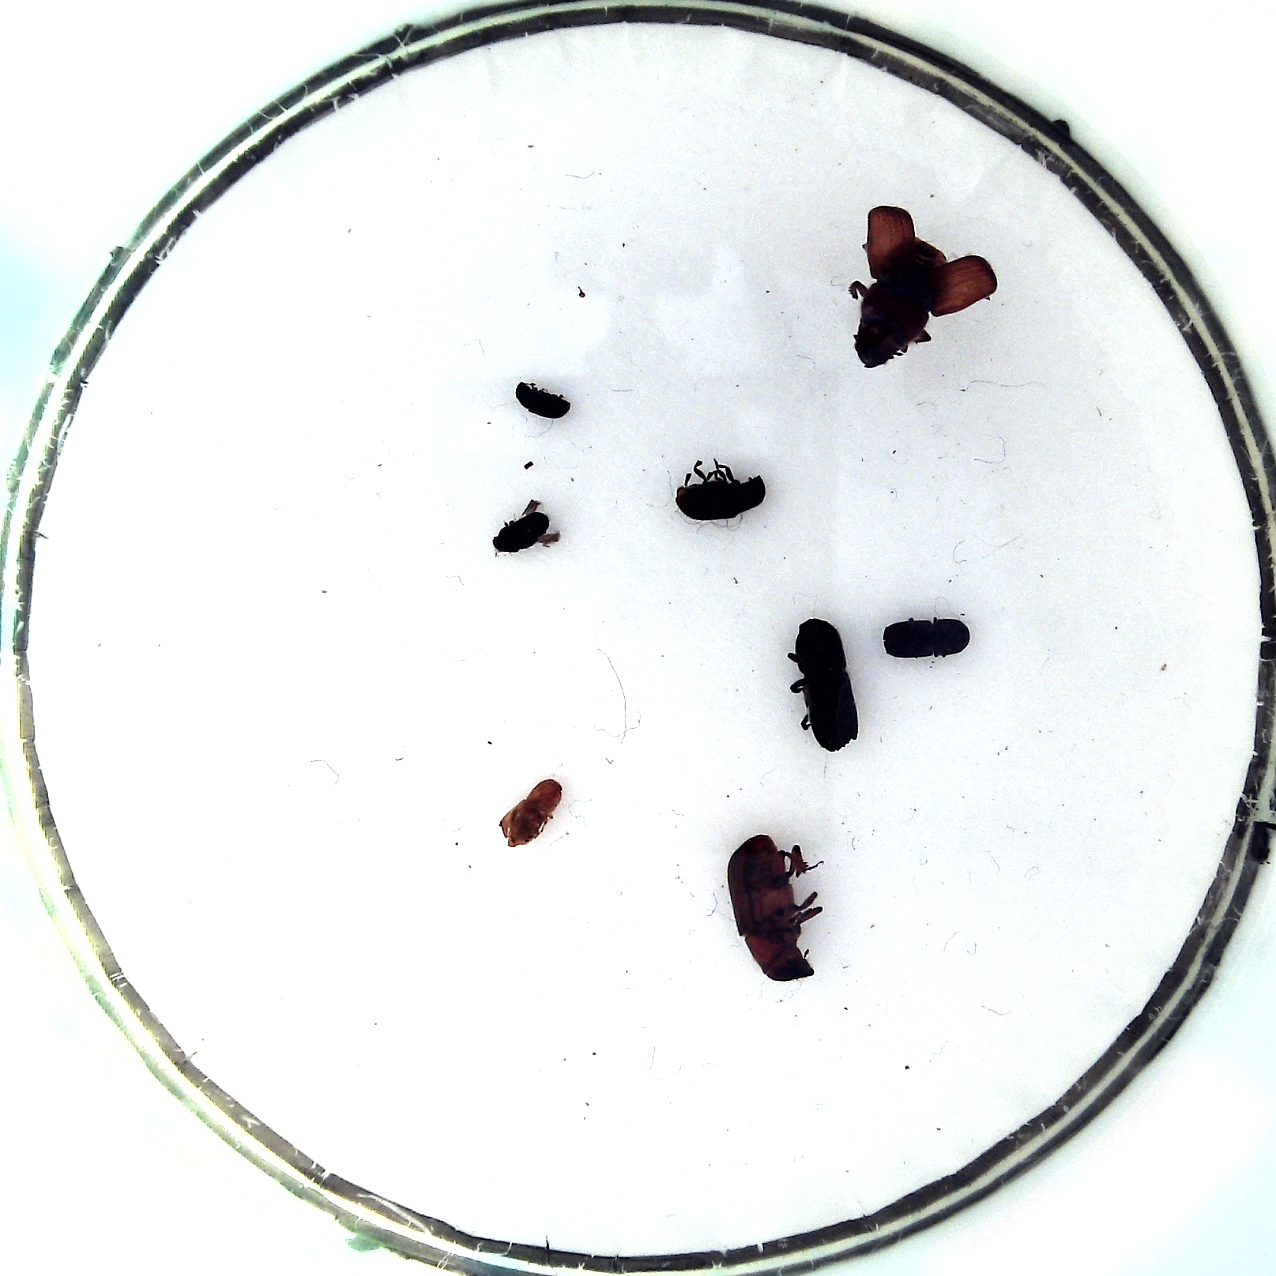Boerner: (795, 619, 860, 753)
Leconte: (727, 833, 816, 982), (854, 237, 950, 370)
acuminatus: (494, 511, 552, 554)
armandi: (677, 474, 765, 520)
coleoptera: (499, 778, 563, 846), (515, 380, 570, 419)
linnaeus: (883, 617, 970, 660)
